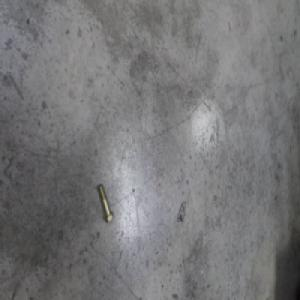Bolt: (95, 183, 113, 225)
